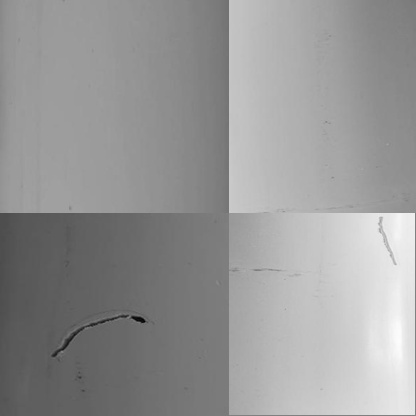fengxi: (43, 309, 157, 361)
